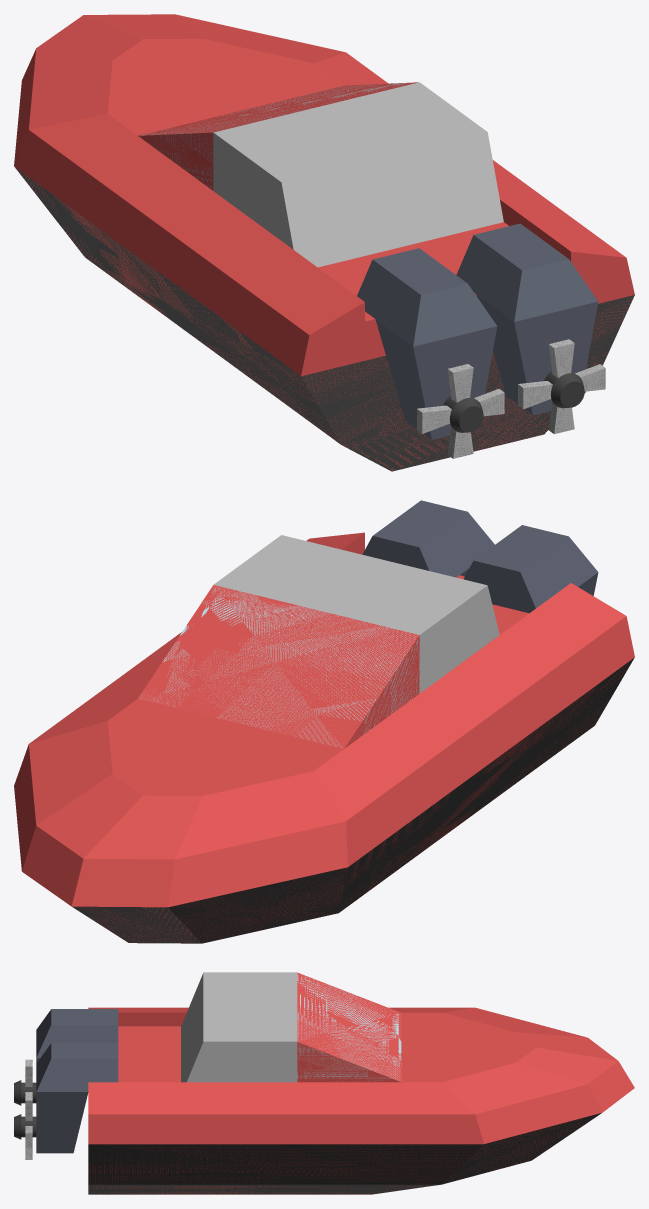
File: boat_020.dae
The picture shows the model from 3 angles, top to bottom: view 1: azimuth 30°, elevation 25°; view 2: azimuth 150°, elevation 25°; view 3: azimuth 270°, elevation 25°; orthographic projection. The views are drawn at different scales.
Visible parts, largest first — view 1: Group (×5); view 2: Group (×3); view 3: Group (×4).
Part boxes in pixels (box(x1,y1,x2,y2)): Group (×5): box(14, 14, 634, 471); Group (×3): box(14, 500, 634, 943); Group (×4): box(14, 972, 634, 1194).
Size of the model in its own units: 1.79 by 1.2 by 4.17.
